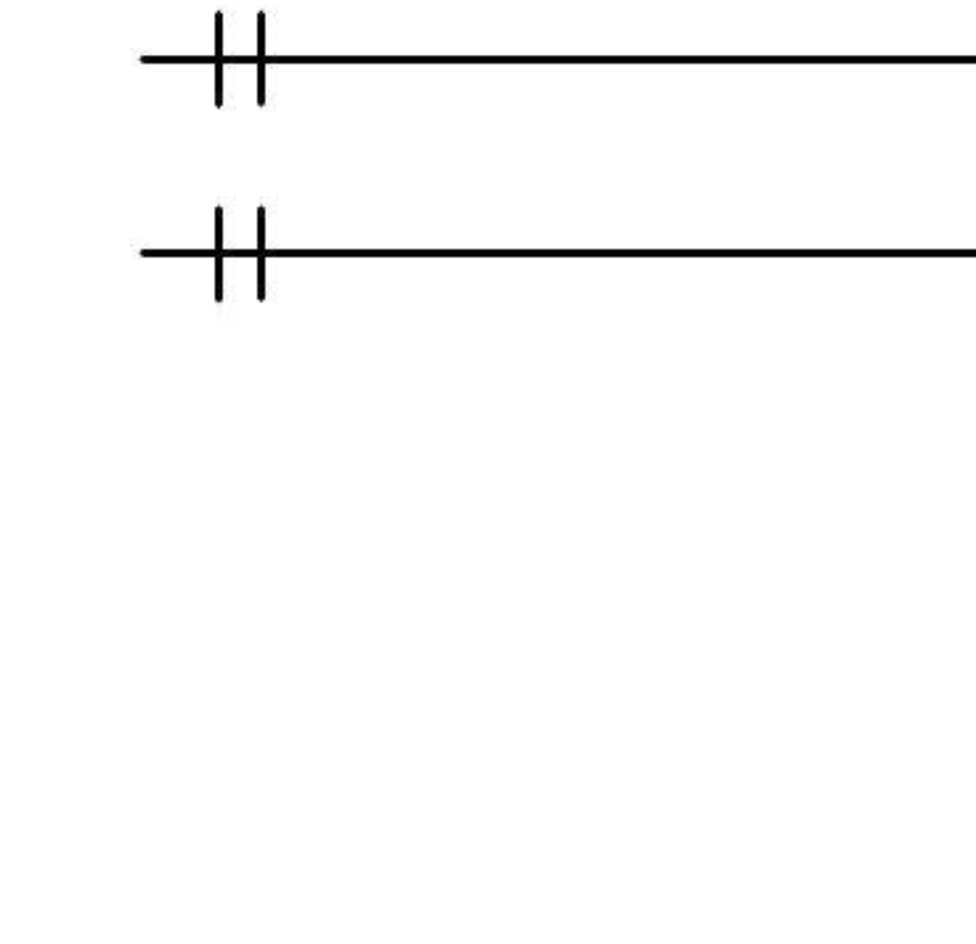115_buffer: (214, 204, 265, 304), (215, 10, 265, 109)
